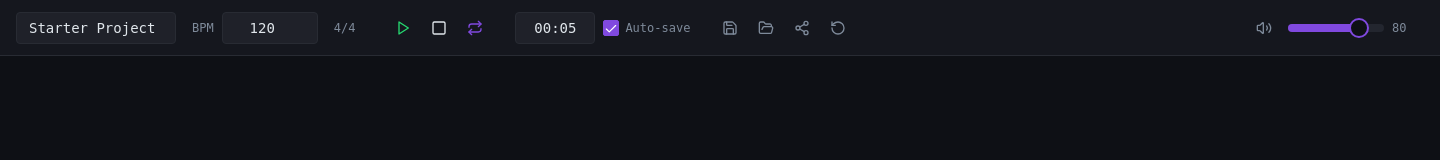
Test: TopBar › disables the interval input when autosave is off
This screenshot has width=1440, height=160.
Click the checkbox named "Autosave".
click(611, 28)  # box [603,20,619,36]
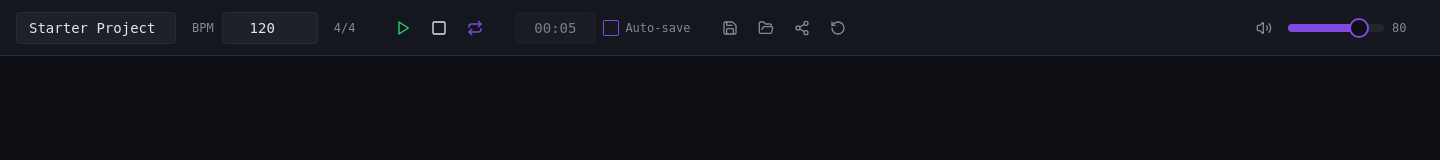
Result: the field named "Autosave interval" is disabled at [515,12,595,44]
